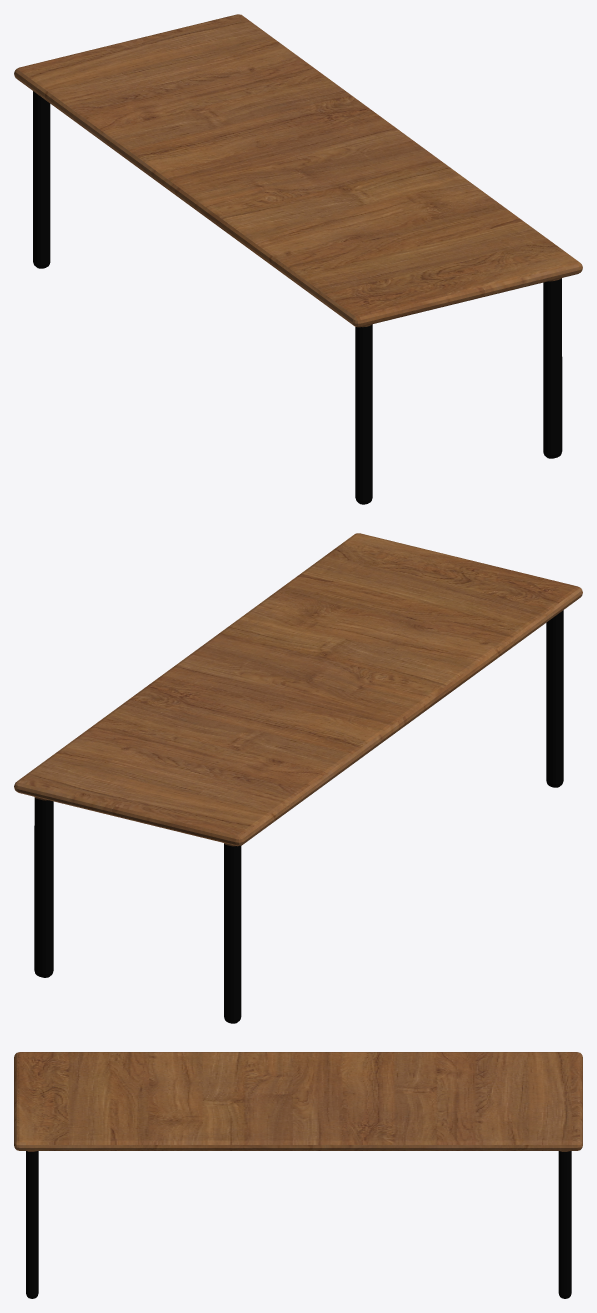
Rendered from table.glb.
3 views of the same model, one above another, from view 1: azimuth 30°, elevation 25°; view 2: azimuth 150°, elevation 25°; view 3: azimuth 270°, elevation 25° (orthographic). The views are drawn at different scales.
Visible parts, largest first — view 1: Cube; view 2: Cube; view 3: Cube.
Part boxes in pixels (x1,y1,x2,y2): Cube: (14,14,582,504); Cube: (14,533,582,1023); Cube: (14,1052,582,1298).
Bounding box in the file's own units: 3.79 × 3.11 × 9.84.
2 materials, 1 textured.
